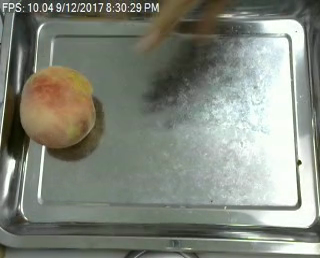Peach: (19, 65, 97, 150)
